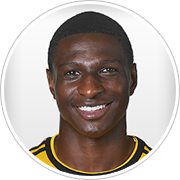face: (44, 48, 139, 125)
